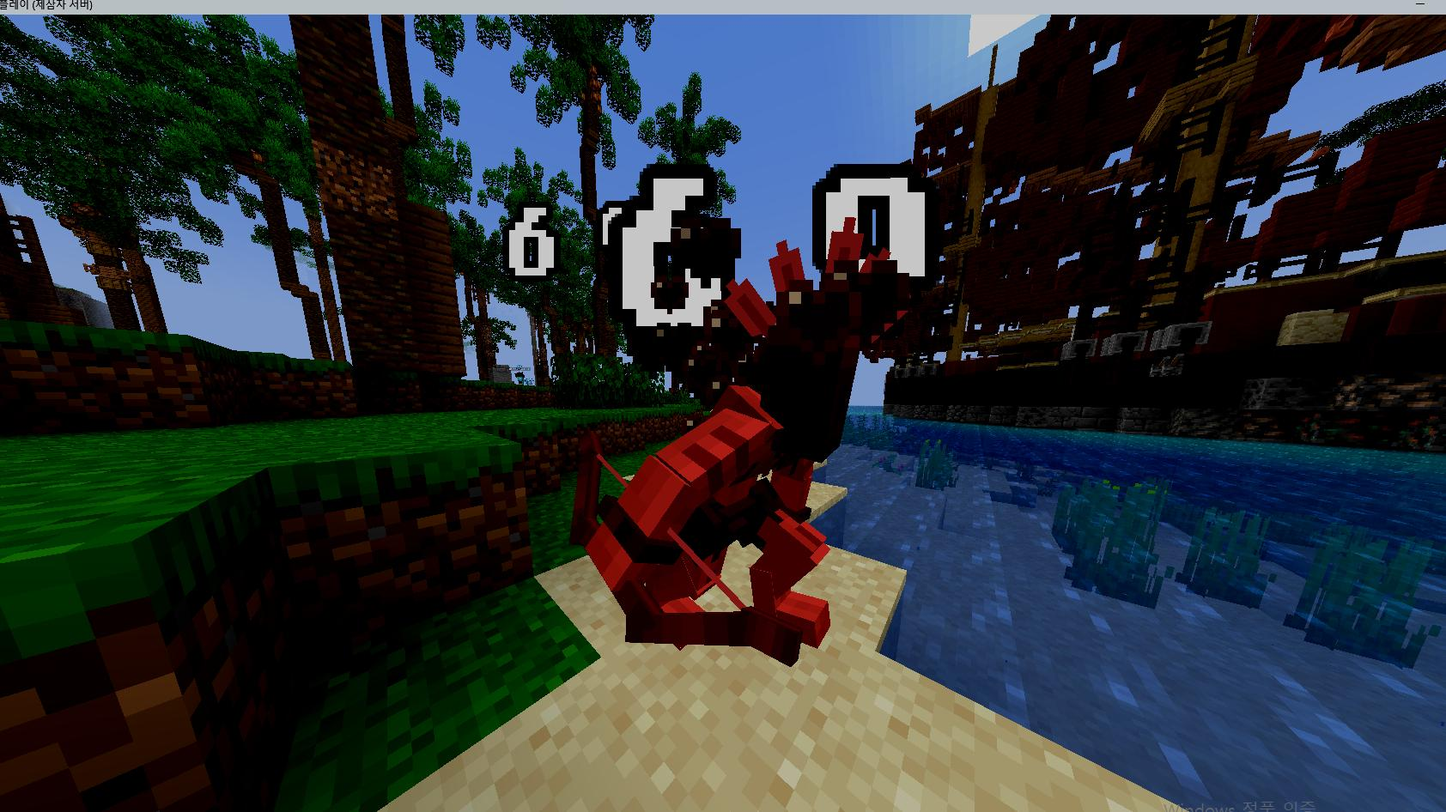bow_indian: (508, 218, 947, 694)
